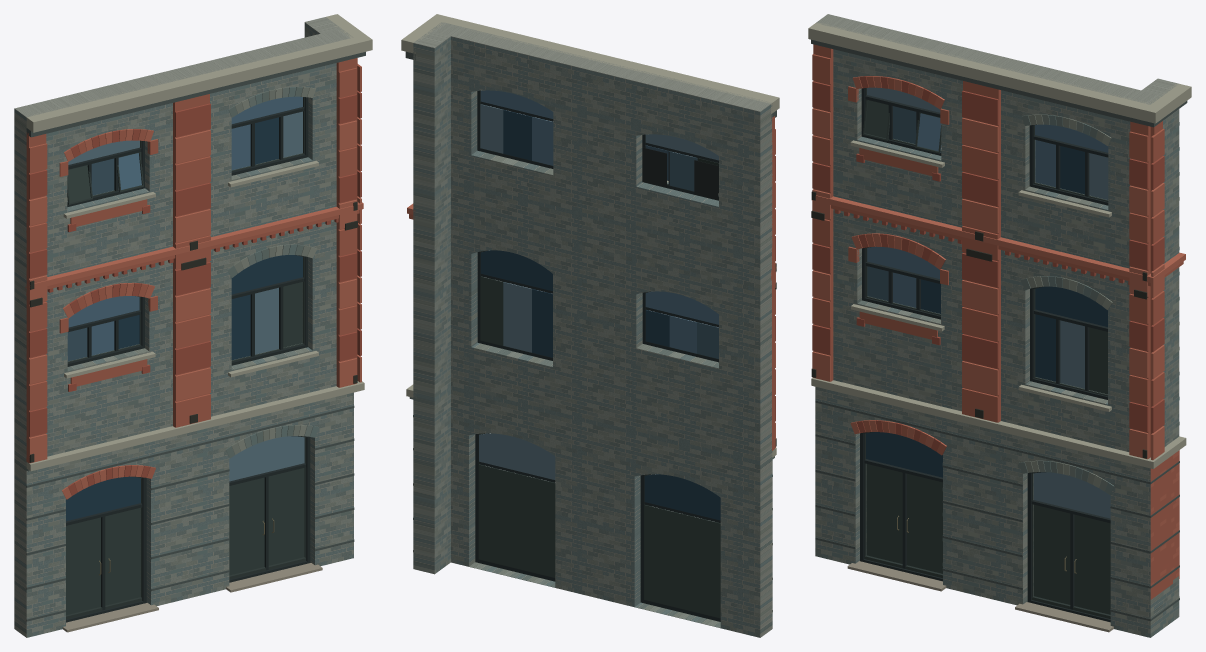
Rendered from jingan-xintai-warehouse-brick-corner-lod.glb.
The picture shows the model from 3 angles, left to right: view 1: azimuth 30°, elevation 25°; view 2: azimuth 150°, elevation 25°; view 3: azimuth 330°, elevation 25°; orthographic projection. The views are drawn at different scales.
Parts seen in each view (by area): view 1: 新泰仓库东翼红砖壁柱与两跨券窗; view 2: 新泰仓库东翼红砖壁柱与两跨券窗; view 3: 新泰仓库东翼红砖壁柱与两跨券窗.
Boxes of the visible parts, x1,y1,x2,y2 form: 新泰仓库东翼红砖壁柱与两跨券窗: (14, 14, 372, 637); 新泰仓库东翼红砖壁柱与两跨券窗: (401, 14, 779, 637); 新泰仓库东翼红砖壁柱与两跨券窗: (808, 14, 1191, 637).
Bounding box in the file's own units: 7.77 × 11.4 × 1.39.
23 materials, 1 textured.
